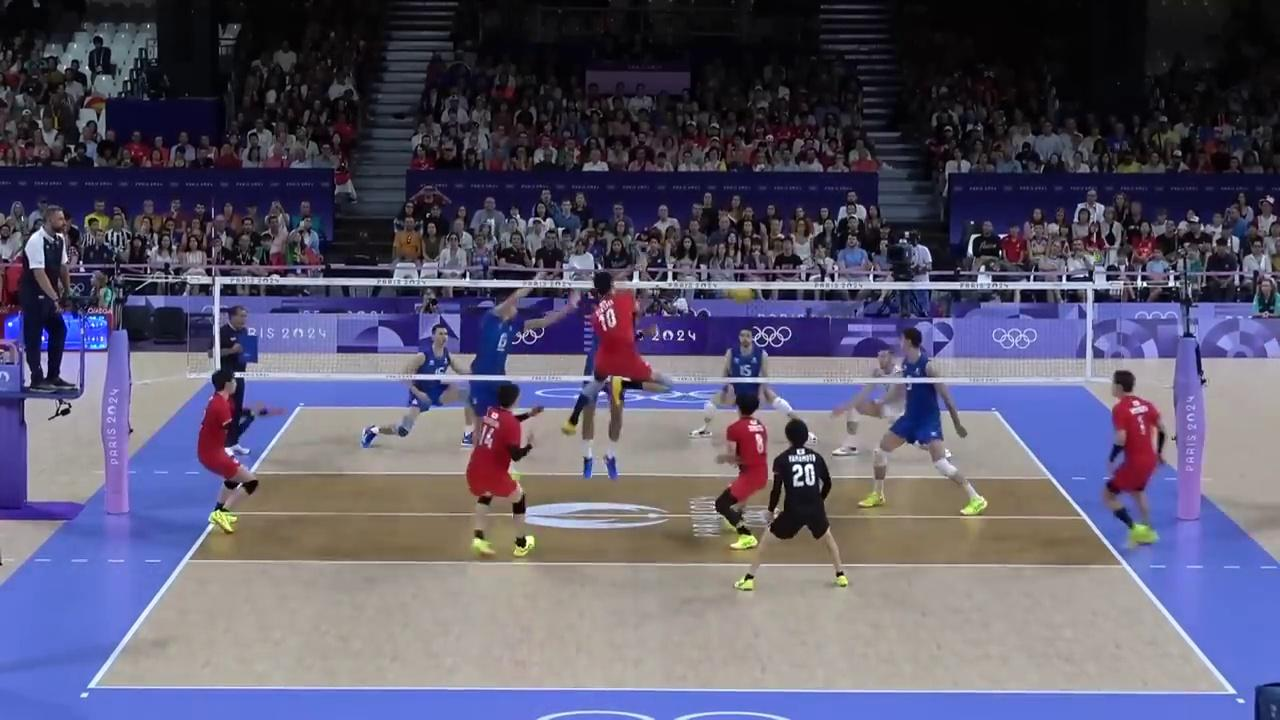ball: (728, 286, 756, 302)
